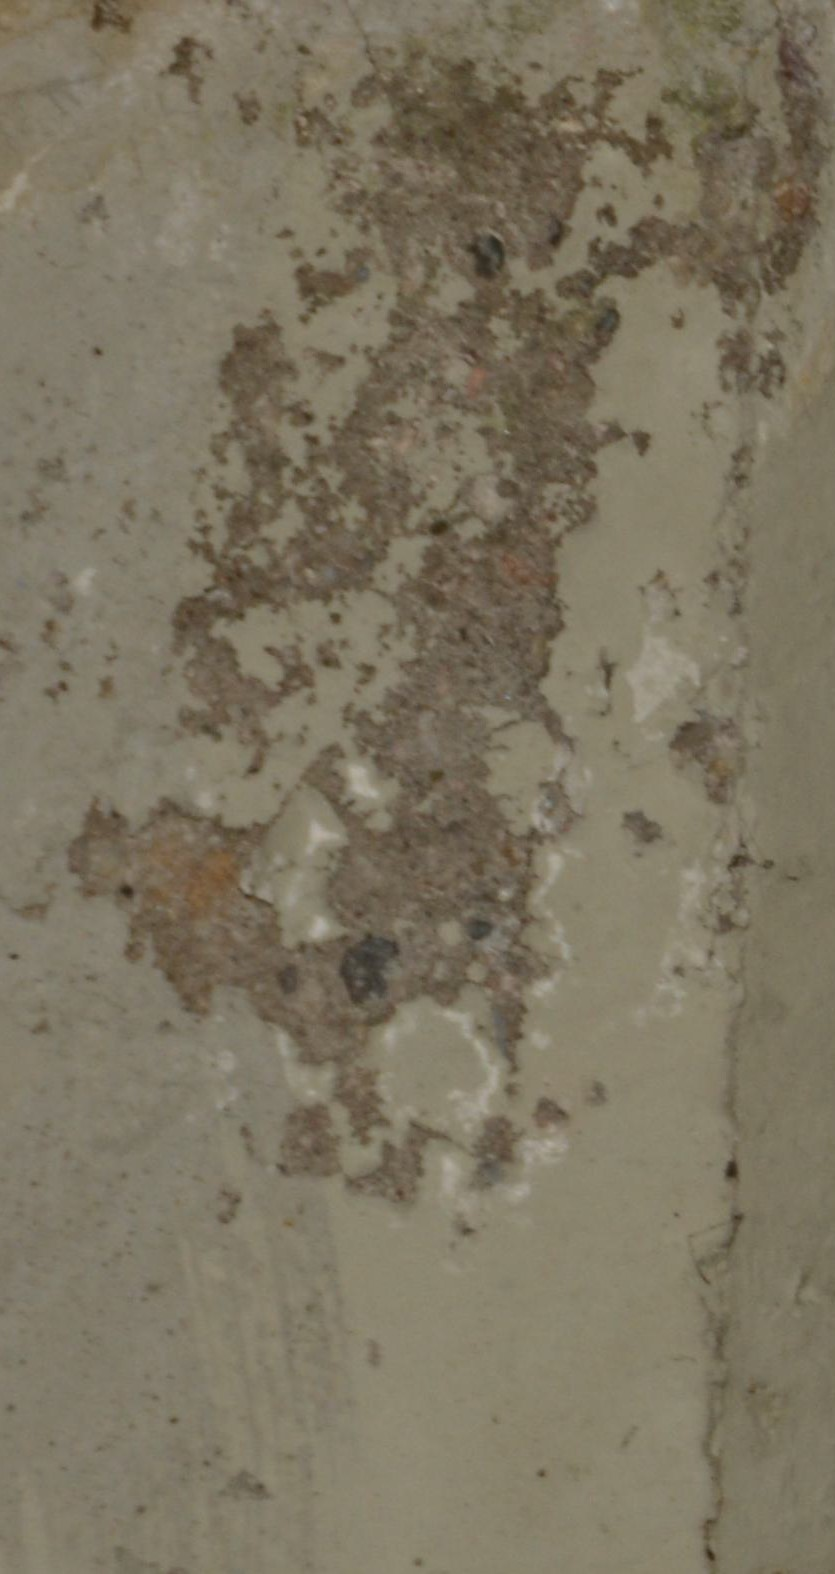Spalling: (1, 1, 835, 1214)
